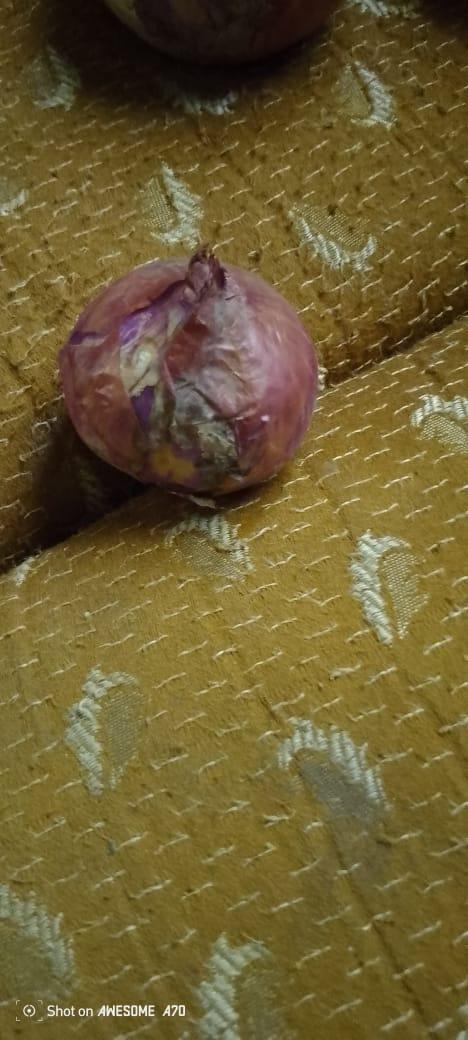non-mango: (50, 234, 320, 505)
